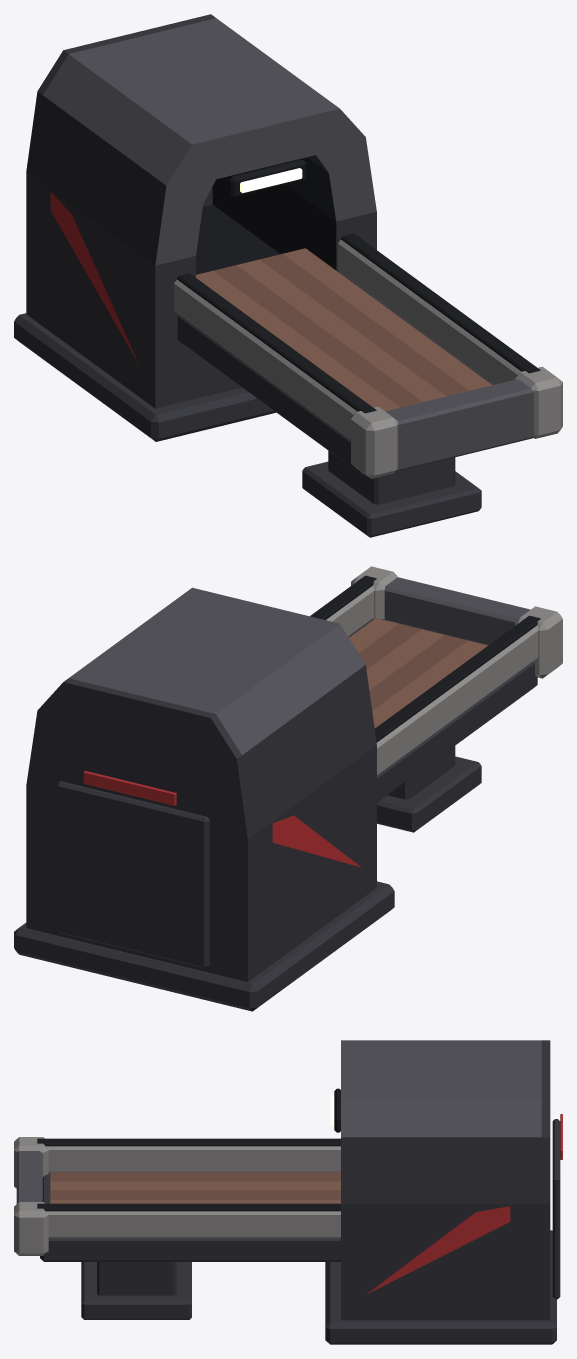
Rendered from BowlingBallReturn.fbx.
The picture shows the model from 3 angles, top to bottom: view 1: azimuth 30°, elevation 25°; view 2: azimuth 150°, elevation 25°; view 3: azimuth 270°, elevation 25°; orthographic projection. The views are drawn at different scales.
Parts seen in each view (by area): view 1: Return_Housing, Return_Wood_Strips, Return_Front_Stop, Return_Housing_Plinth, Return_Tray_Foot, Return_Rail_Left, Return_Rail_Right, Return_Tray_Chassis, Return_Tray_Leg, Return_Rail_Dark_Top_Left, Return_Rail_Dark_Top_Right, Return_Stop_Cap_Left (+5 smaller); view 2: Return_Housing, Return_Rear_Cover, Return_Rear_Service_Panel, Return_Housing_Plinth, Return_Wood_Strips, Return_Front_Stop, Return_Rail_Left, Return_Tray_Chassis, Return_Tray_Foot, Return_Rail_Dark_Top_Left, Return_Stop_Cap_Left, Return_Red_Slash_Left (+5 smaller); view 3: Return_Housing, Return_Wood_Strips, Return_Rail_Left, Return_Rail_Right, Return_Tray_Chassis, Return_Housing_Plinth, Return_Tray_Foot, Return_Rear_Cover, Return_Tray_Leg, Return_Rail_Dark_Top_Left, Return_Rail_Dark_Top_Right, Return_Red_Slash_Right (+4 smaller).
Part boxes in pixels (bbox=[...]): Return_Housing: bbox=[31, 18, 376, 408]; Return_Wood_Strips: bbox=[196, 248, 492, 411]; Return_Front_Stop: bbox=[385, 379, 535, 471]; Return_Housing_Plinth: bbox=[14, 313, 275, 441]; Return_Tray_Foot: bbox=[302, 461, 481, 537]; Return_Rail_Left: bbox=[174, 279, 357, 439]; Return_Rail_Right: bbox=[338, 240, 521, 384]; Return_Tray_Chassis: bbox=[177, 272, 493, 476]; Return_Tray_Leg: bbox=[328, 451, 455, 504]; Return_Rail_Dark_Top_Left: bbox=[177, 273, 376, 413]; Return_Rail_Dark_Top_Right: bbox=[341, 233, 540, 373]; Return_Stop_Cap_Left: bbox=[351, 406, 398, 478]; Return_Housing: bbox=[69, 587, 376, 977]; Return_Rear_Cover: bbox=[26, 678, 253, 981]; Return_Rear_Service_Panel: bbox=[56, 781, 209, 968]; Return_Housing_Plinth: bbox=[14, 881, 394, 1011]; Return_Wood_Strips: bbox=[349, 618, 487, 728]; Return_Front_Stop: bbox=[384, 577, 530, 644]; Return_Rail_Left: bbox=[376, 626, 538, 775]; Return_Tray_Chassis: bbox=[348, 619, 537, 802]; Return_Tray_Foot: bbox=[377, 756, 481, 832]; Return_Rail_Dark_Top_Left: bbox=[374, 615, 540, 742]; Return_Stop_Cap_Left: bbox=[515, 606, 562, 678]; Return_Red_Slash_Left: bbox=[272, 815, 361, 867]; Return_Housing: bbox=[341, 1040, 541, 1320]; Return_Wood_Strips: bbox=[50, 1172, 340, 1203]; Return_Rail_Left: bbox=[46, 1146, 340, 1172]; Return_Rail_Right: bbox=[46, 1211, 340, 1237]; Return_Tray_Chassis: bbox=[40, 1172, 340, 1261]; Return_Housing_Plinth: bbox=[325, 1230, 556, 1344]; Return_Tray_Foot: bbox=[81, 1262, 191, 1319]; Return_Rear_Cover: bbox=[541, 1040, 550, 1320]; Return_Tray_Leg: bbox=[97, 1262, 176, 1295]; Return_Rail_Dark_Top_Left: bbox=[37, 1138, 340, 1146]; Return_Rail_Dark_Top_Right: bbox=[37, 1203, 340, 1211]; Return_Red_Slash_Right: bbox=[366, 1206, 510, 1294].
Bounding box in the file's own units: 0.66 × 0.73 × 1.59.
2 materials, 1 textured.
